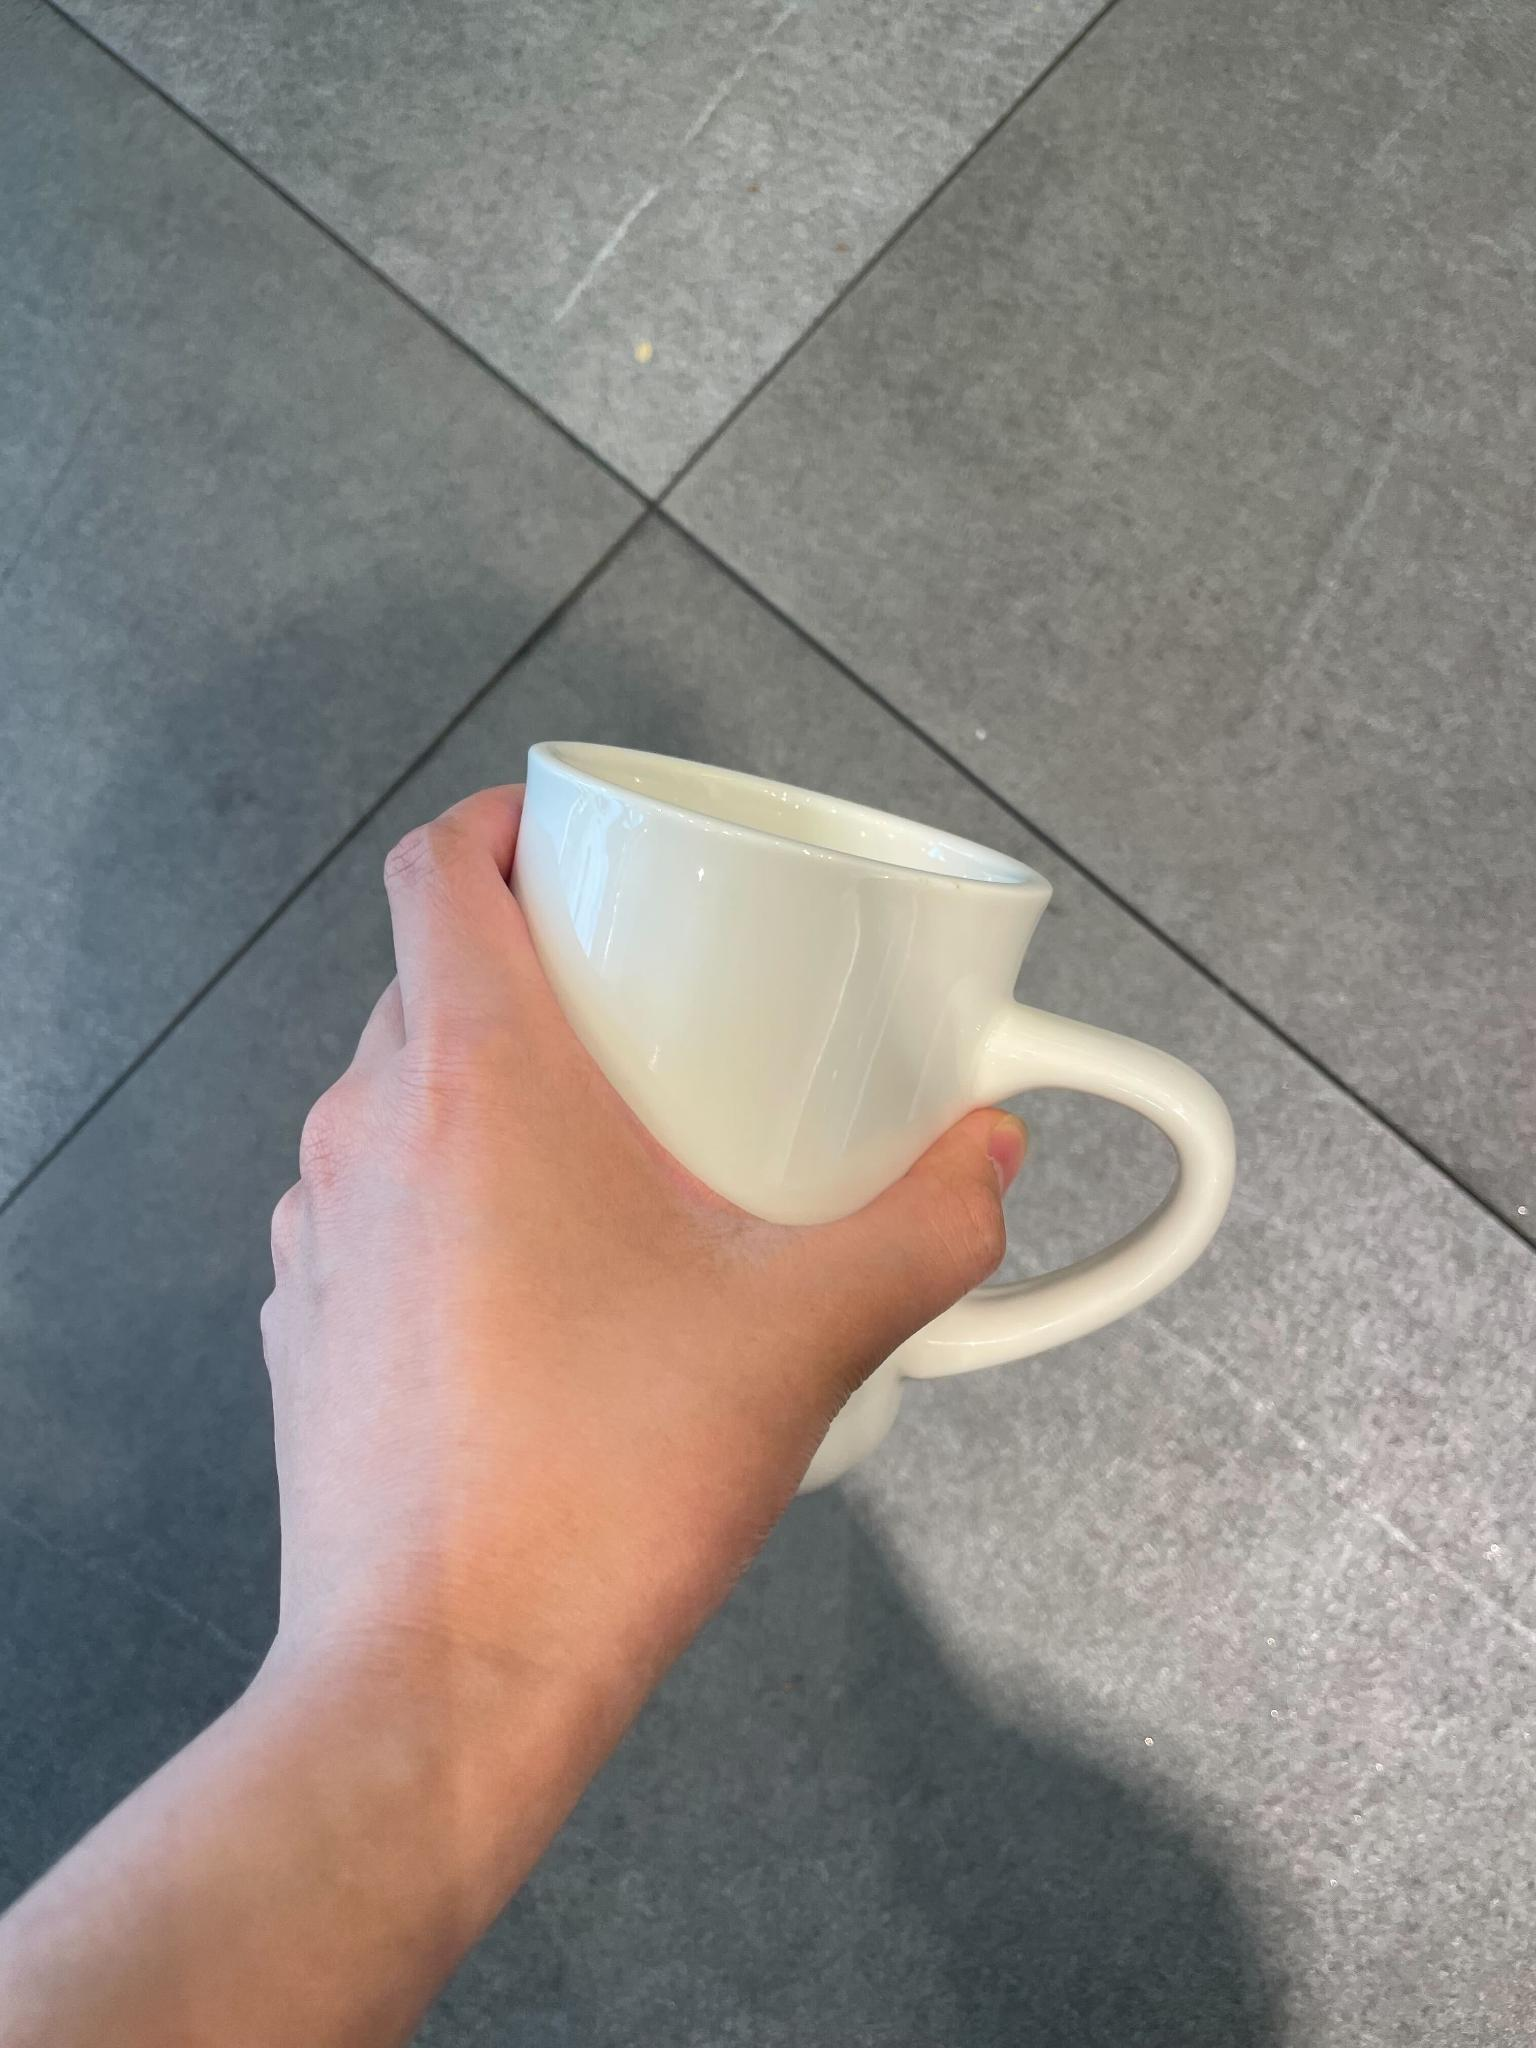cup: (253, 724, 1255, 1808)
